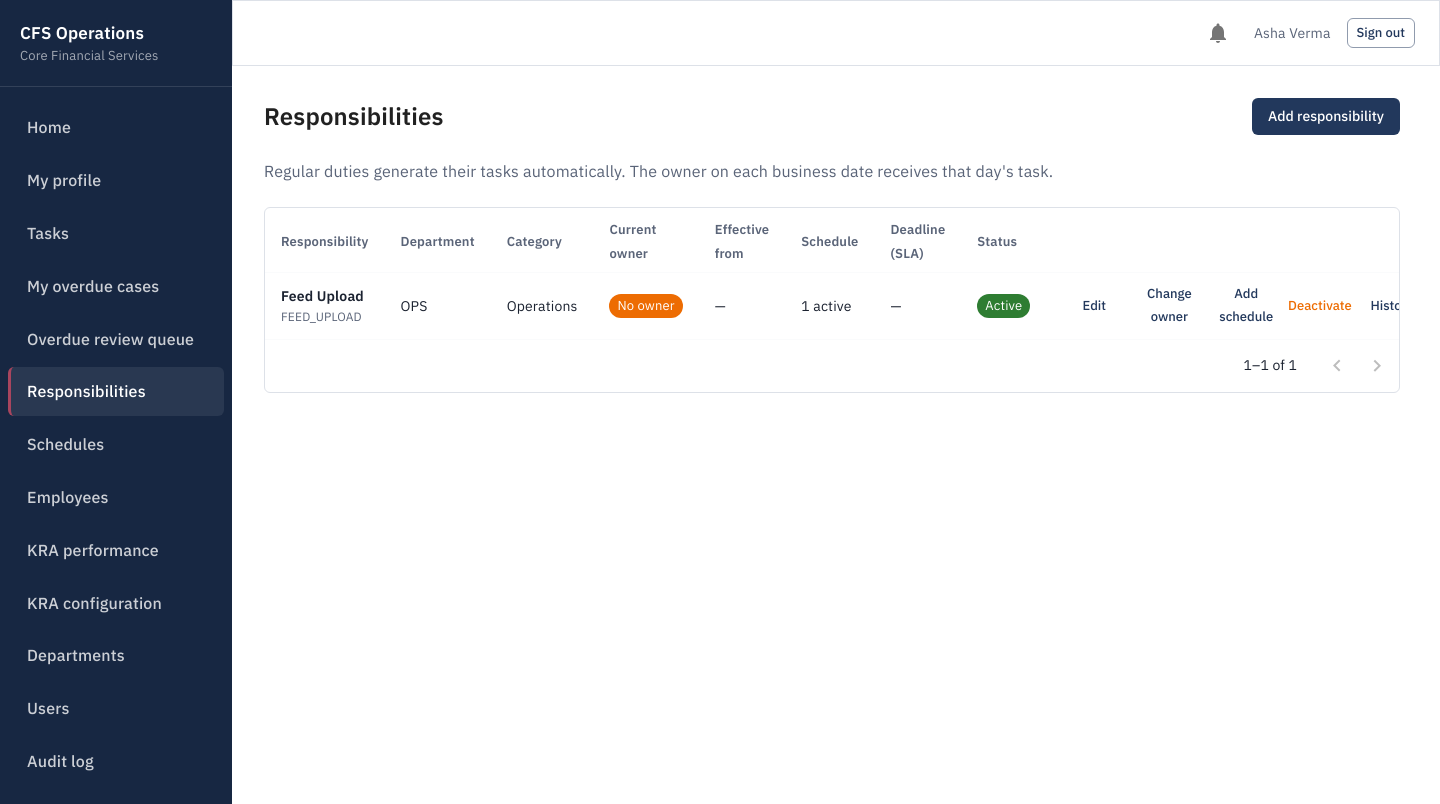
Test case: Responsibilities › reports what happened to today's work after an owner change
This screenshot has width=1440, height=804.
Step 1. Click the button "Change owner" → (1169, 306), box x1=1134 y1=279 x2=1204 y2=333
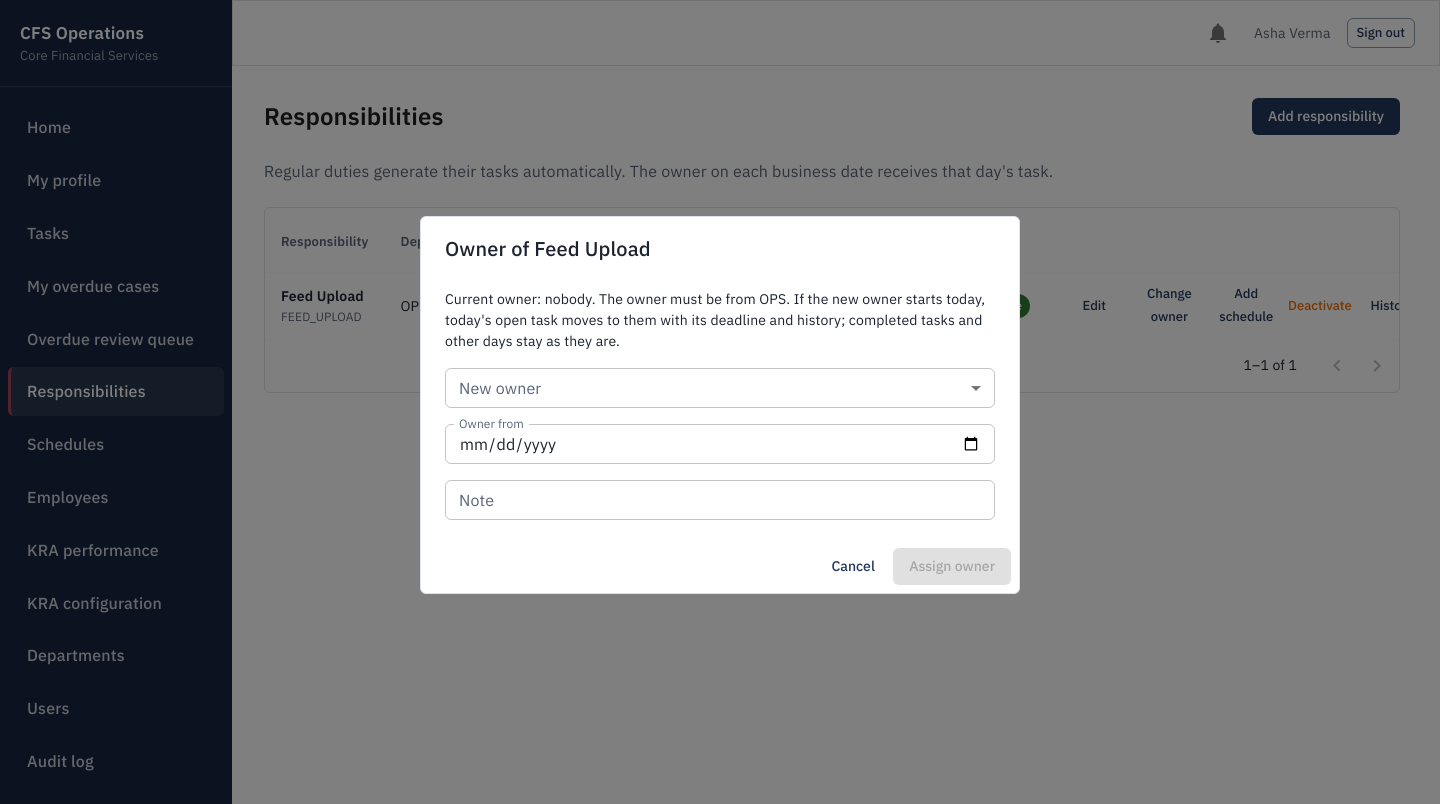
Step 2. Click the dropdown named "New owner" → (720, 388), box x1=445 y1=368 x2=995 y2=408
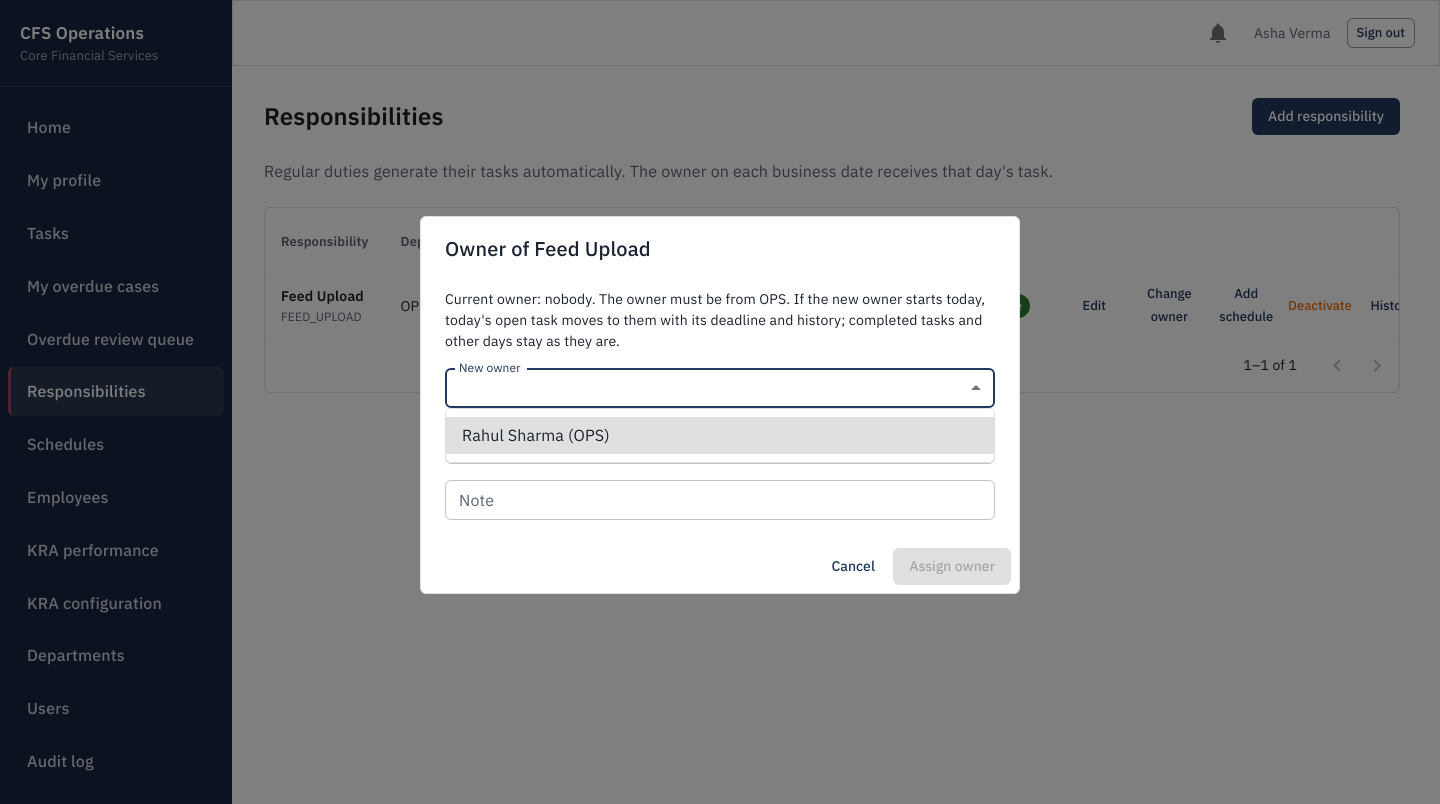
Step 3. Click the option "Rahul Sharma (OPS)" → (513, 435), box x1=446 y1=417 x2=994 y2=454
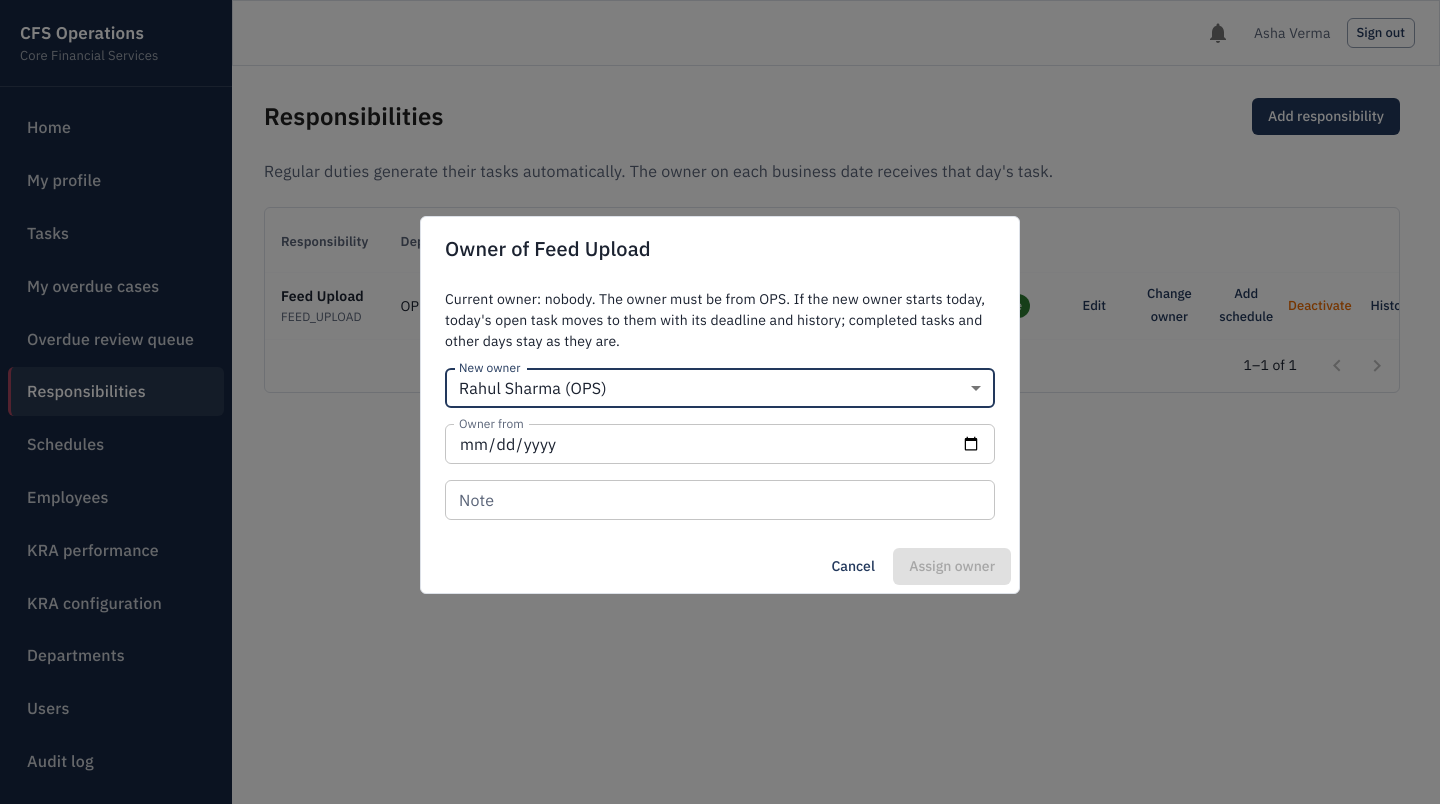
Step 4. Type "2026-10-05" into the date field labelled "Owner from" → (720, 444), box x1=445 y1=424 x2=995 y2=464
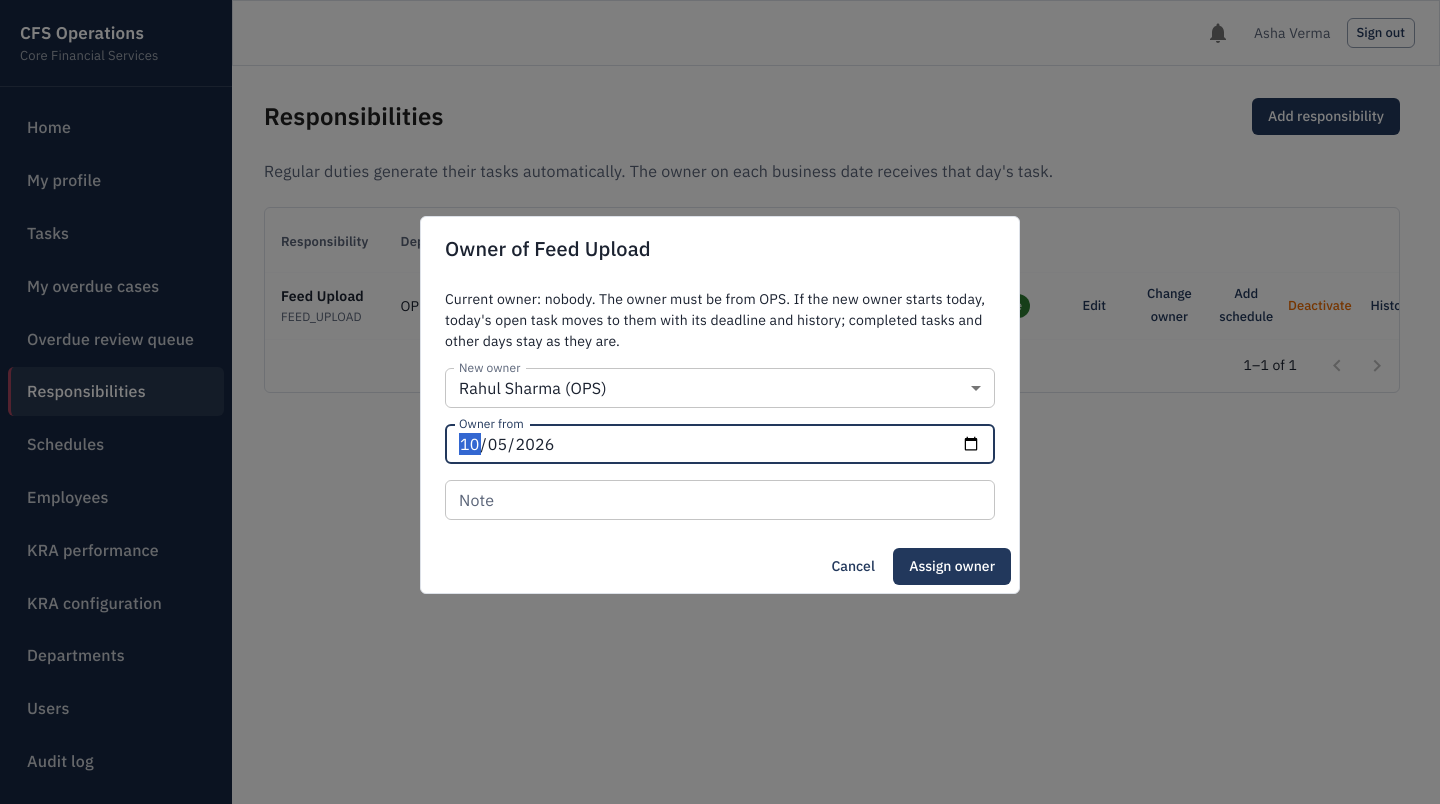
Step 5. Click the button "Assign owner" → (952, 567), box x1=893 y1=548 x2=1011 y2=585
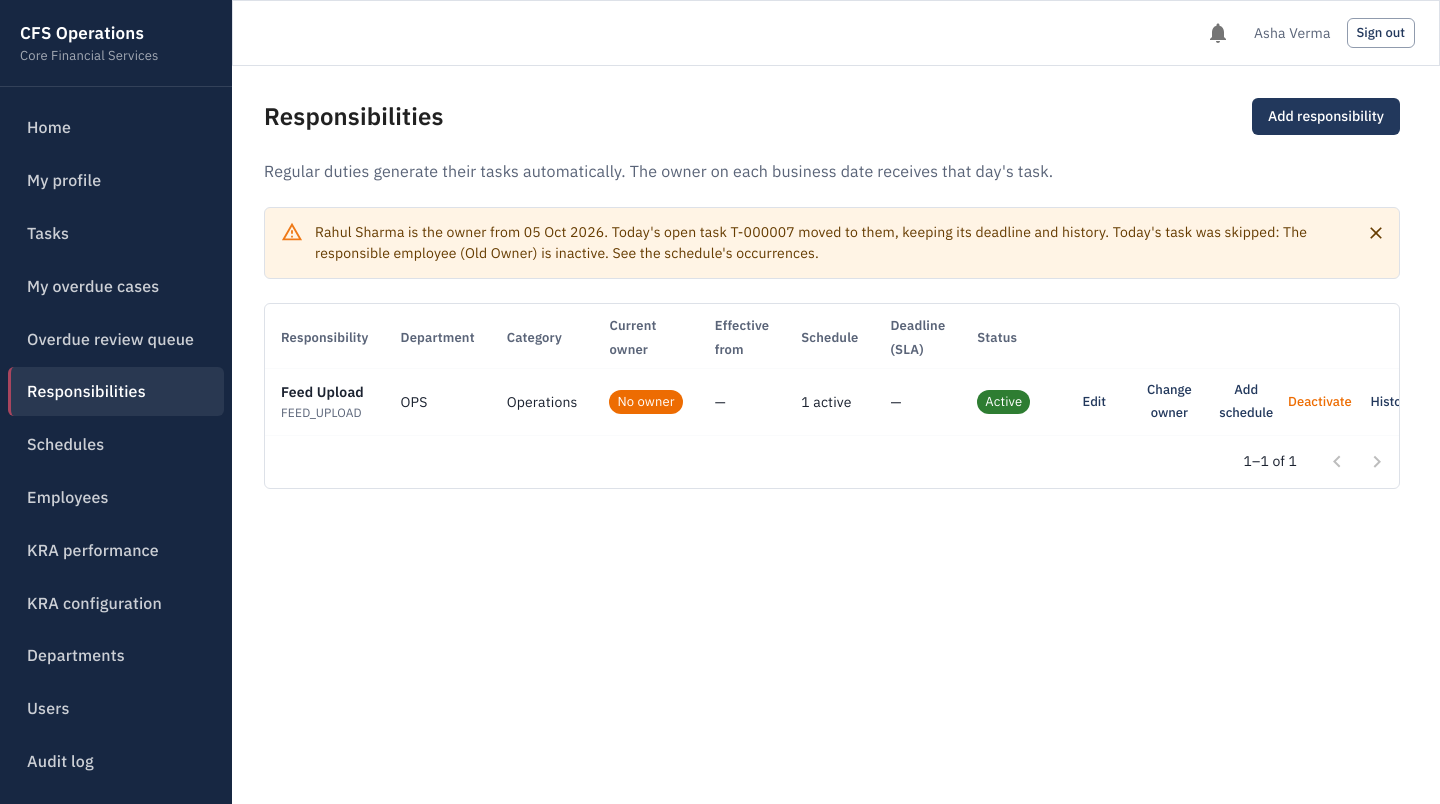
Now the text "Today's open task T-000007 moved to them" shows "Today's task was skipped: The responsible employee (Old Owner) is inactive. See the schedule's occurrences.", box x1=315 y1=223 x2=1307 y2=262
